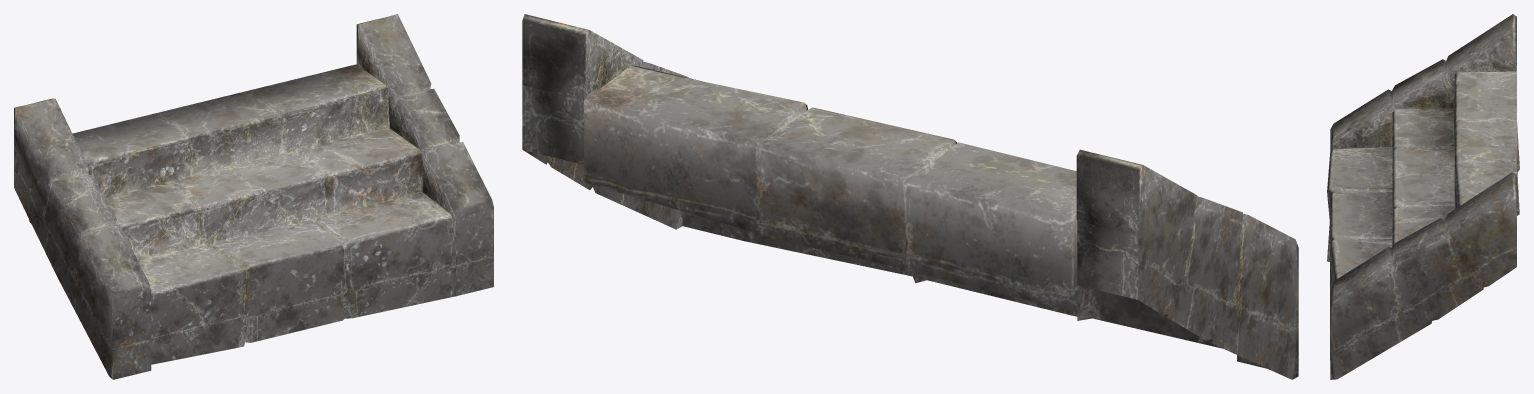
Rendered from GreyStairs.fbx.
3 renders of one model, left to right at view 1: azimuth 30°, elevation 25°; view 2: azimuth 150°, elevation 25°; view 3: azimuth 270°, elevation 25°, orthographic. The views are drawn at different scales.
Visible parts, largest first — view 1: defaultMaterial.002; view 2: defaultMaterial.002; view 3: defaultMaterial.002.
Boxes of the visible parts, x1,y1,x2,y2 form: defaultMaterial.002: [14, 14, 493, 379]; defaultMaterial.002: [522, 14, 1298, 379]; defaultMaterial.002: [1327, 14, 1519, 379].
Size of the model in its own units: 200 by 100 by 92.05.
